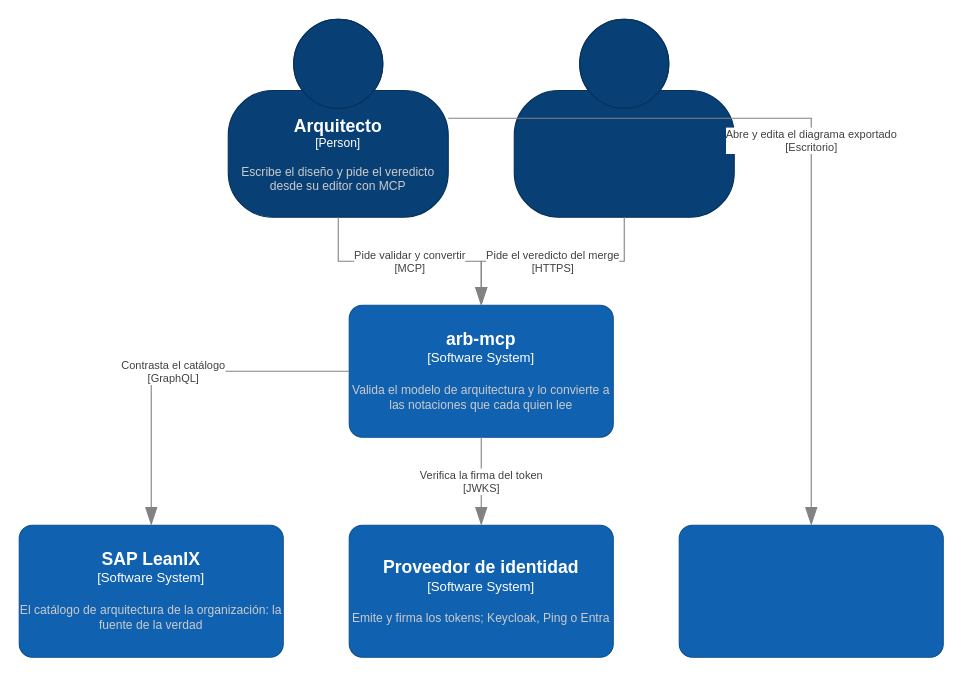
Image size: 963x677. Some labels were removed from this diagram. Here are the shapes that lost their labels. From the top down, the centre of each, then its label:
At point (623, 117): "Pipeline de CI [Person] Pide el veredicto en cada merge request".
At point (810, 590): "drawio [Software System] Donde el diagrama exportado se abre y se edita".
